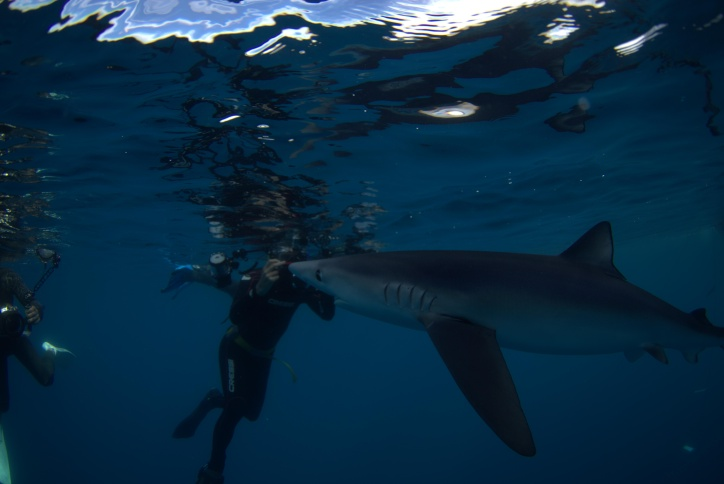Azul: (271, 207, 724, 468)
